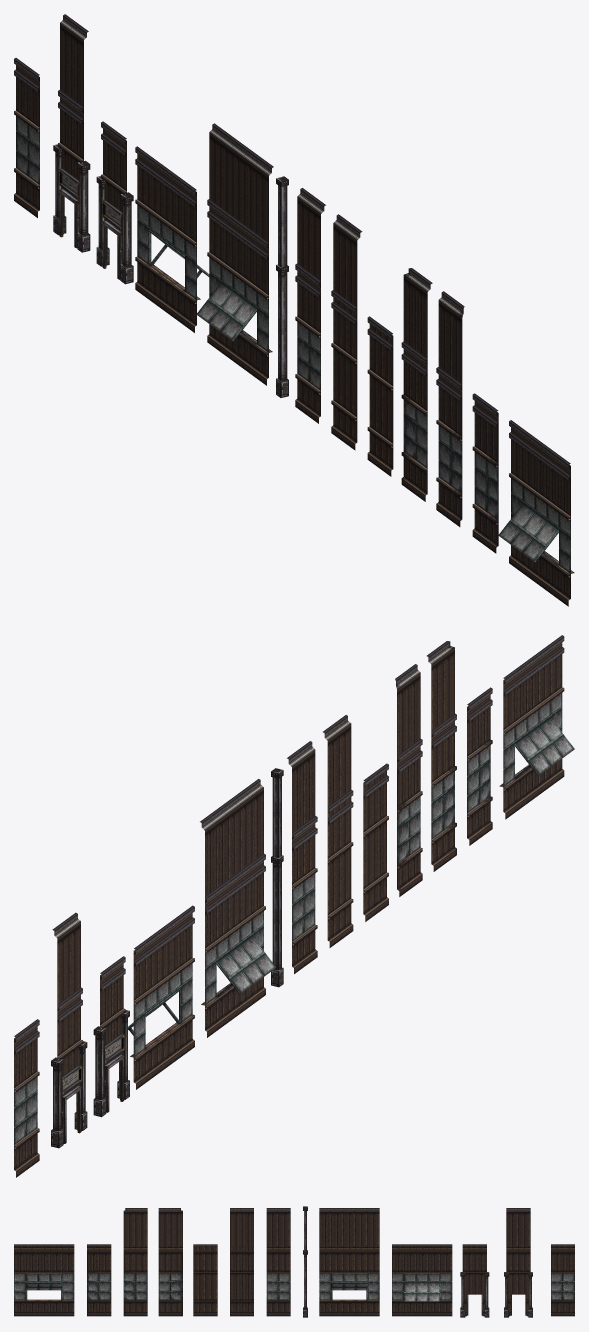
Rendered from EnvMdrMD_Factory_A_Room_Door_A.FBX.
3 renders of one model, top to bottom at view 1: azimuth 30°, elevation 25°; view 2: azimuth 150°, elevation 25°; view 3: azimuth 270°, elevation 25°, orthographic. The views are drawn at different scales.
Visible parts, largest first — view 1: EnvMdrMD_Factory_A_Room_Window_A, EnvMdrMD_Factory_A_Room_Window_A_1F, EnvMdrMD_Factory_A_Room_Window_B_1F, EnvMdrMD_Factory_A_Room_Door_A, EnvMdrMD_Factory_A_Room_Loop_B, EnvMdrMD_Factory_A_Room_RS_A, EnvMdrMD_Factory_A_Room_LS_A, EnvMdrMD_Factory_A_Room_Loop_A, EnvMdrMD_Factory_A_Room_Door_B_1F, EnvMdrMD_Factory_A_Room_RS_A_1F, EnvMdrMD_Factory_A_Room_Loop_B_1F, EnvMdrMD_Factory_A_Room_Loop_A_1F (+1 smaller); view 2: EnvMdrMD_Factory_A_Room_Window_A, EnvMdrMD_Factory_A_Room_Window_A_1F, EnvMdrMD_Factory_A_Room_Window_B_1F, EnvMdrMD_Factory_A_Room_Door_A, EnvMdrMD_Factory_A_Room_Loop_B, EnvMdrMD_Factory_A_Room_Loop_A, EnvMdrMD_Factory_A_Room_RS_A, EnvMdrMD_Factory_A_Room_LS_A, EnvMdrMD_Factory_A_Room_Door_B_1F, EnvMdrMD_Factory_A_Room_Loop_B_1F, EnvMdrMD_Factory_A_Room_RS_A_1F, EnvMdrMD_Factory_A_Room_Loop_A_1F (+1 smaller); view 3: EnvMdrMD_Factory_A_Room_Window_A, EnvMdrMD_Factory_A_Room_Window_B_1F, EnvMdrMD_Factory_A_Room_Window_A_1F, EnvMdrMD_Factory_A_Room_Loop_A, EnvMdrMD_Factory_A_Room_LS_A, EnvMdrMD_Factory_A_Room_RS_A, EnvMdrMD_Factory_A_Room_Loop_B, EnvMdrMD_Factory_A_Room_Door_A, EnvMdrMD_Factory_A_Room_Loop_B_1F, EnvMdrMD_Factory_A_Room_RS_A_1F, EnvMdrMD_Factory_A_Room_Loop_A_1F, EnvMdrMD_Factory_A_Room_Door_B_1F (+1 smaller).
Part boxes in pixels (x1=…): EnvMdrMD_Factory_A_Room_Window_A: x1=196, y1=123, x2=273, y2=385; EnvMdrMD_Factory_A_Room_Window_A_1F: x1=498, y1=420, x2=574, y2=606; EnvMdrMD_Factory_A_Room_Window_B_1F: x1=135, y1=146, x2=209, y2=332; EnvMdrMD_Factory_A_Room_Door_A: x1=53, y1=14, x2=90, y2=252; EnvMdrMD_Factory_A_Room_Loop_B: x1=331, y1=214, x2=362, y2=450; EnvMdrMD_Factory_A_Room_RS_A: x1=436, y1=291, x2=464, y2=526; EnvMdrMD_Factory_A_Room_LS_A: x1=401, y1=268, x2=432, y2=501; EnvMdrMD_Factory_A_Room_Loop_A: x1=295, y1=188, x2=325, y2=423; EnvMdrMD_Factory_A_Room_Door_B_1F: x1=96, y1=121, x2=133, y2=284; EnvMdrMD_Factory_A_Room_RS_A_1F: x1=472, y1=393, x2=498, y2=553; EnvMdrMD_Factory_A_Room_Loop_B_1F: x1=367, y1=316, x2=393, y2=476; EnvMdrMD_Factory_A_Room_Loop_A_1F: x1=14, y1=58, x2=39, y2=217; EnvMdrMD_Factory_A_Room_Window_A: x1=200, y1=779, x2=276, y2=1037; EnvMdrMD_Factory_A_Room_Window_A_1F: x1=499, y1=635, x2=574, y2=819; EnvMdrMD_Factory_A_Room_Window_B_1F: x1=128, y1=905, x2=194, y2=1089; EnvMdrMD_Factory_A_Room_Door_A: x1=51, y1=912, x2=87, y2=1148; EnvMdrMD_Factory_A_Room_Loop_B: x1=323, y1=715, x2=353, y2=947; EnvMdrMD_Factory_A_Room_Loop_A: x1=287, y1=741, x2=317, y2=973; EnvMdrMD_Factory_A_Room_RS_A: x1=427, y1=641, x2=456, y2=871; EnvMdrMD_Factory_A_Room_LS_A: x1=395, y1=664, x2=422, y2=896; EnvMdrMD_Factory_A_Room_Door_B_1F: x1=93, y1=956, x2=129, y2=1117; EnvMdrMD_Factory_A_Room_Loop_B_1F: x1=363, y1=763, x2=388, y2=921; EnvMdrMD_Factory_A_Room_RS_A_1F: x1=467, y1=687, x2=492, y2=845; EnvMdrMD_Factory_A_Room_Loop_A_1F: x1=14, y1=1019, x2=39, y2=1177; EnvMdrMD_Factory_A_Room_Window_A: x1=319, y1=1208, x2=379, y2=1316; EnvMdrMD_Factory_A_Room_Window_B_1F: x1=392, y1=1244, x2=452, y2=1316; EnvMdrMD_Factory_A_Room_Window_A_1F: x1=14, y1=1244, x2=74, y2=1316; EnvMdrMD_Factory_A_Room_Loop_A: x1=266, y1=1208, x2=290, y2=1316; EnvMdrMD_Factory_A_Room_LS_A: x1=158, y1=1208, x2=182, y2=1316; EnvMdrMD_Factory_A_Room_RS_A: x1=123, y1=1208, x2=147, y2=1316; EnvMdrMD_Factory_A_Room_Loop_B: x1=230, y1=1208, x2=253, y2=1316; EnvMdrMD_Factory_A_Room_Door_A: x1=504, y1=1208, x2=532, y2=1317; EnvMdrMD_Factory_A_Room_Loop_B_1F: x1=193, y1=1244, x2=217, y2=1316; EnvMdrMD_Factory_A_Room_RS_A_1F: x1=87, y1=1244, x2=111, y2=1316; EnvMdrMD_Factory_A_Room_Loop_A_1F: x1=551, y1=1244, x2=574, y2=1316; EnvMdrMD_Factory_A_Room_Door_B_1F: x1=460, y1=1244, x2=489, y2=1317.
Bounding box in the file's own units: 245 × 1004 × 4646.
Materials: 1 (1 with a texture image).
